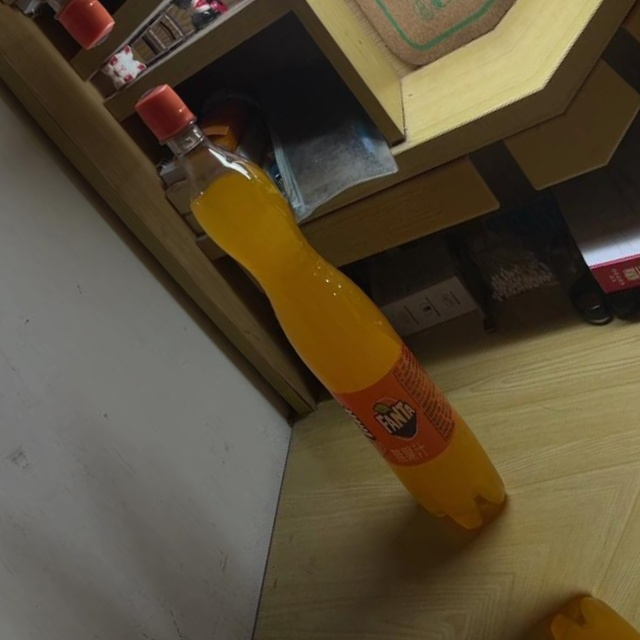Fanta: (104, 65, 537, 556)
